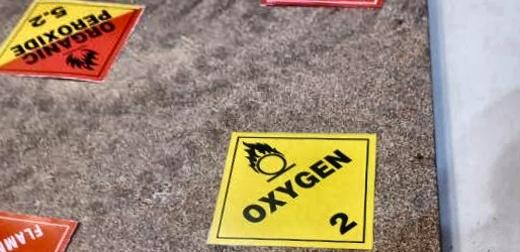organic-peroxide: (1, 1, 158, 82)
oxidizer: (187, 129, 379, 252)
